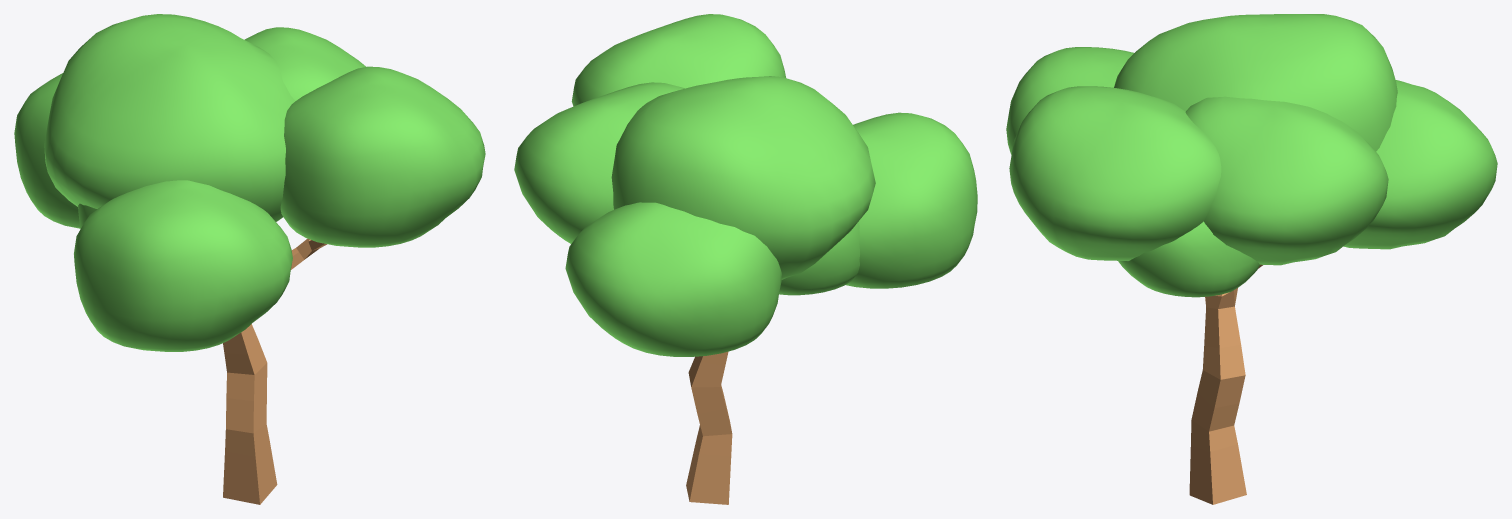
The model's file is Tree4 1.fbx.
3 renders of one model, left to right at view 1: azimuth 30°, elevation 25°; view 2: azimuth 150°, elevation 25°; view 3: azimuth 270°, elevation 25°, orthographic. The views are drawn at different scales.
Parts seen in each view (by area): view 1: Sphere.003, Cube; view 2: Sphere.003, Cube; view 3: Sphere.003, Cube.
Boxes of the visible parts, box(x1,y1,x2,y2) form: Sphere.003: box(14, 14, 485, 351); Cube: box(223, 238, 326, 504); Sphere.003: box(514, 14, 977, 356); Cube: box(686, 351, 732, 504); Sphere.003: box(1006, 14, 1497, 297); Cube: box(1189, 264, 1262, 504).
Bounding box in the file's own units: 454 × 503 × 499.
